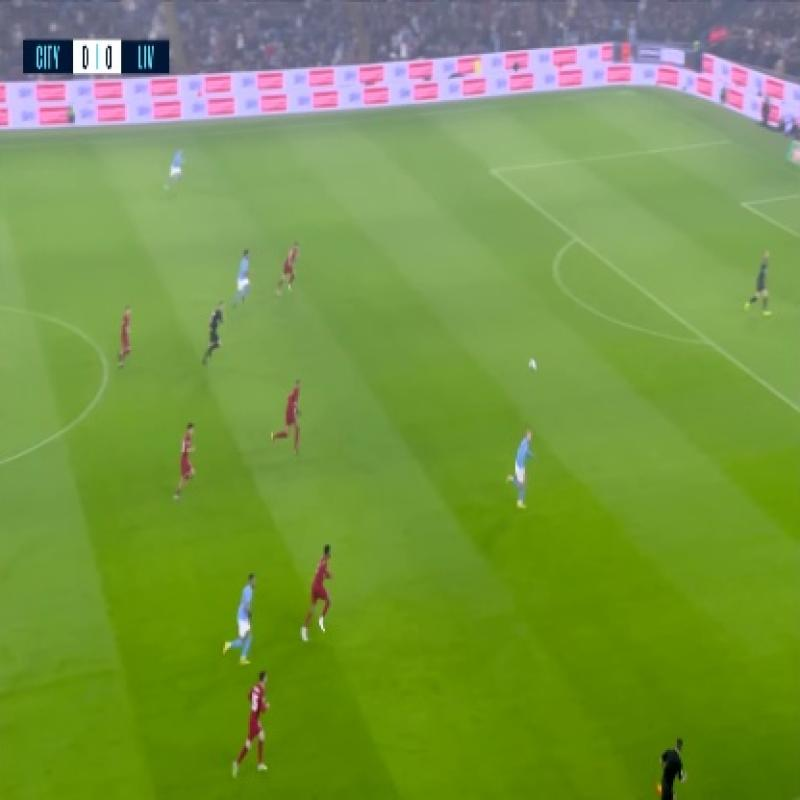1: (614, 79, 642, 100)
10: (566, 223, 584, 250)
11: (698, 327, 717, 354)
2: (720, 130, 738, 148)
7: (731, 190, 752, 215)
9: (481, 158, 500, 182)
c: (86, 345, 122, 386)
